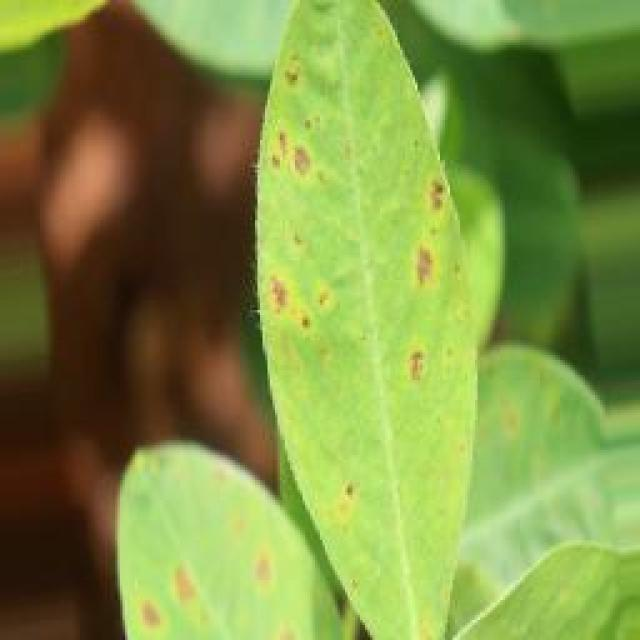Sigatoka: (220, 214, 376, 374), (119, 505, 303, 640), (232, 35, 358, 202), (396, 167, 468, 408)
